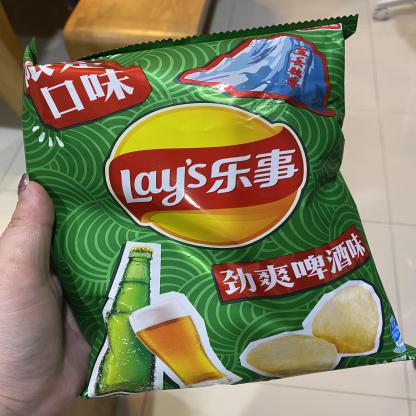potatochip: (0, 11, 415, 405)
